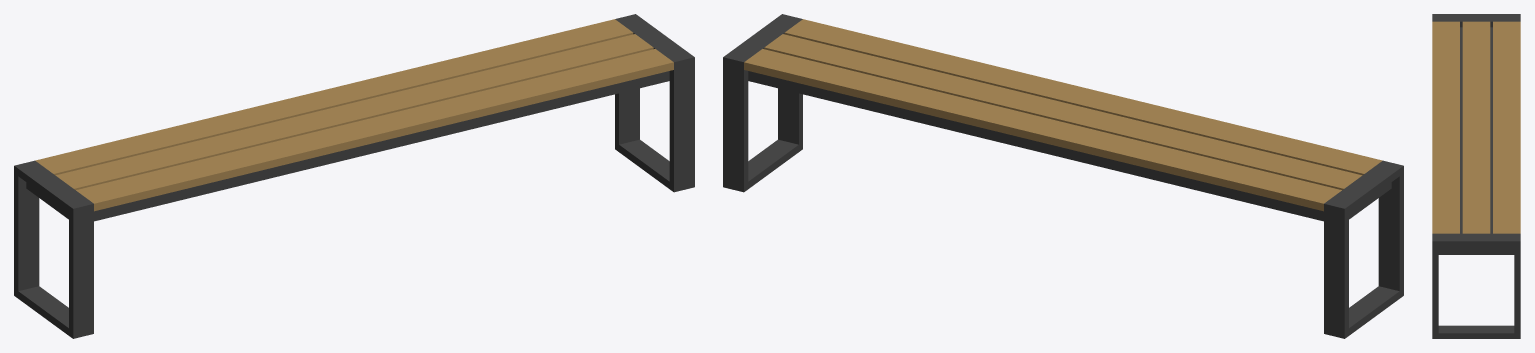
File: lowpbench.fbx
The picture shows the model from 3 angles, left to right: view 1: azimuth 30°, elevation 25°; view 2: azimuth 150°, elevation 25°; view 3: azimuth 270°, elevation 25°; orthographic projection. The views are drawn at different scales.
Visible parts, largest first — view 1: Bench3; view 2: Bench3; view 3: Bench3.
Boxes of the visible parts, left/top/right/bottom form: Bench3: left=14, top=14, right=694, bottom=338; Bench3: left=723, top=14, right=1403, bottom=338; Bench3: left=1432, top=14, right=1520, bottom=338.
Bounding box in the file's own units: 225 × 45 × 37.
